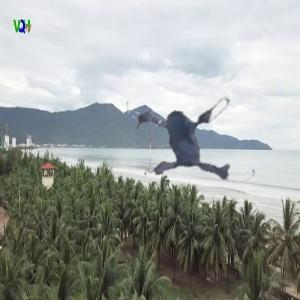drone: (120, 44, 290, 214)
